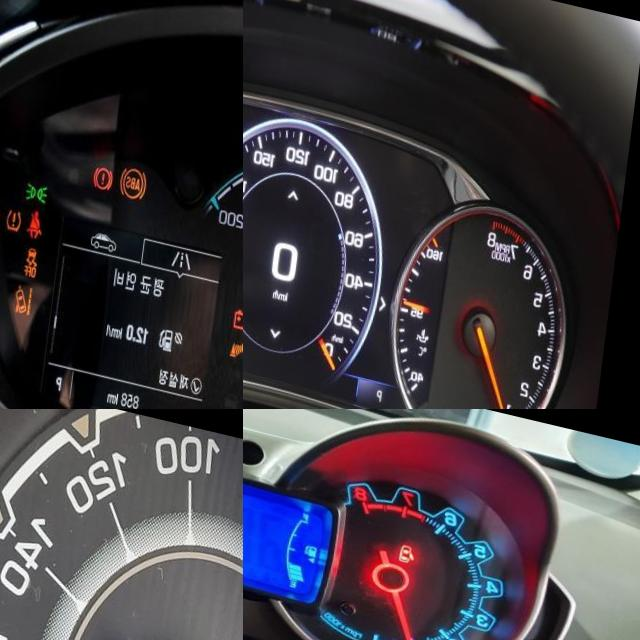Doors: (403, 524, 422, 545)
SideLamp: (32, 178, 56, 201)
